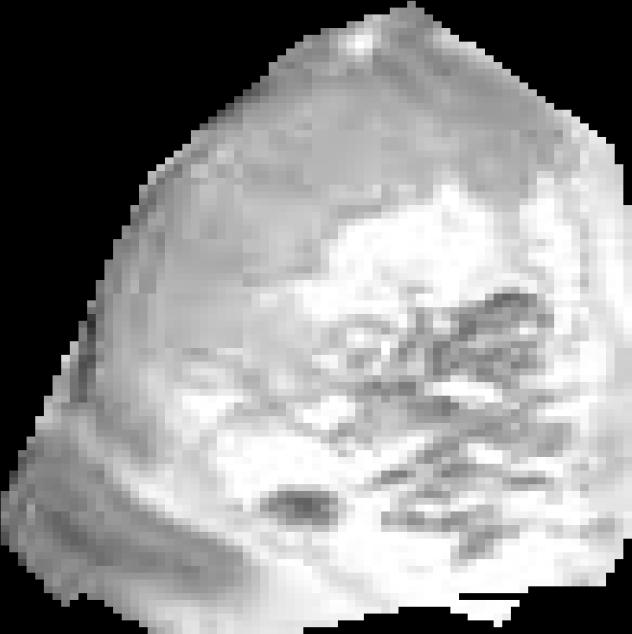tumor_moderate_chance: (1, 1, 632, 634)
